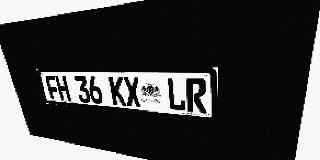3: (74, 76, 91, 103)
6: (86, 76, 104, 104)
F: (45, 76, 61, 100)
H: (55, 76, 71, 101)
K: (108, 77, 127, 106)
L: (166, 78, 186, 112)
R: (186, 78, 207, 113)
X: (123, 77, 142, 108)
